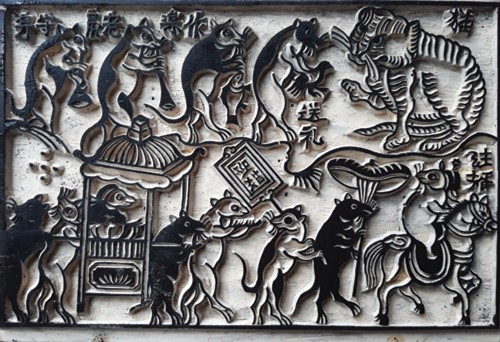chuot_chu_re: (365, 167, 496, 324)
chuot_co_dau: (77, 116, 205, 310)
chuot_khenh_kieu: (138, 192, 260, 323), (0, 187, 81, 323)
chuot_mang_le_vat: (163, 18, 332, 142)
chuot_nguoi_hau: (217, 142, 409, 324)
chuot_nhac_cong: (7, 17, 175, 155)
ho_uy_nghi: (332, 7, 485, 151)
